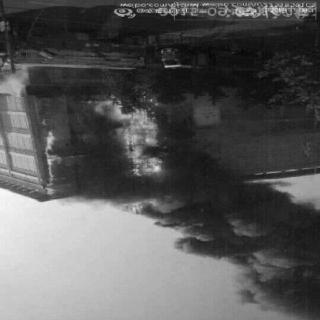Fire: (84, 89, 182, 216), (32, 116, 80, 193)
